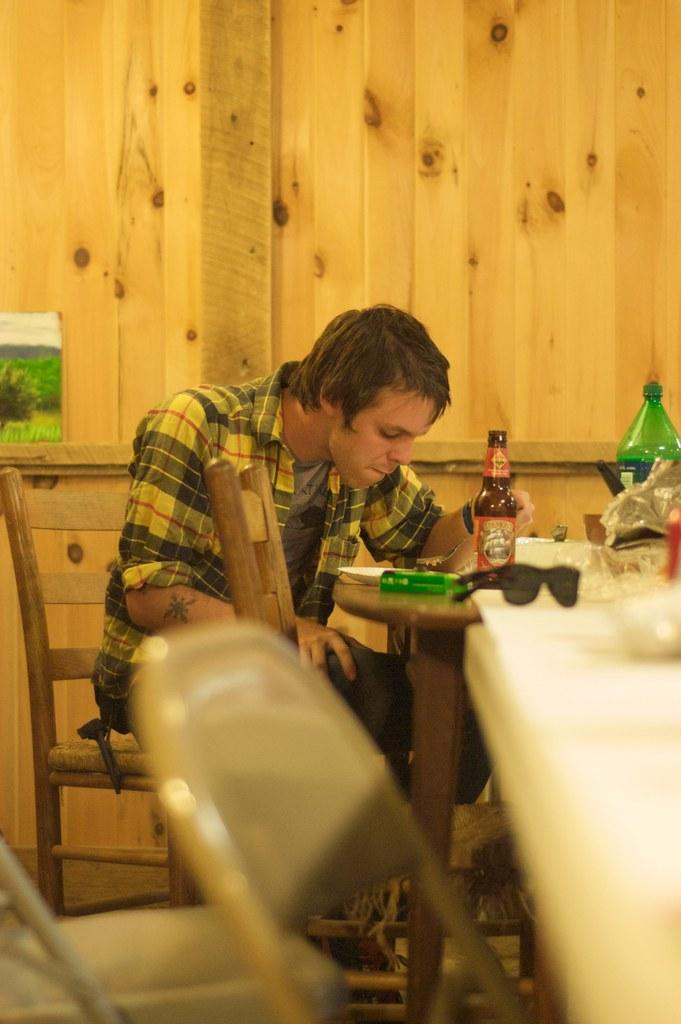Chair: (0, 465, 413, 928), (190, 454, 530, 981), (120, 619, 533, 1023), (0, 839, 351, 1023)
